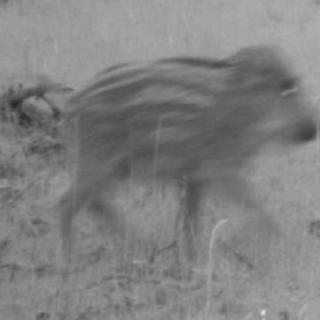Pig: (52, 41, 320, 258)
